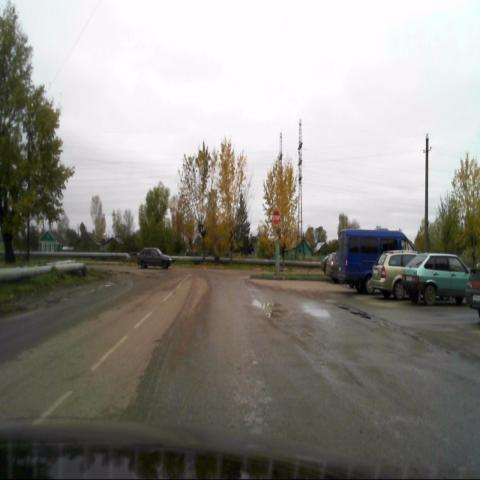2_5: (272, 210, 280, 225)
